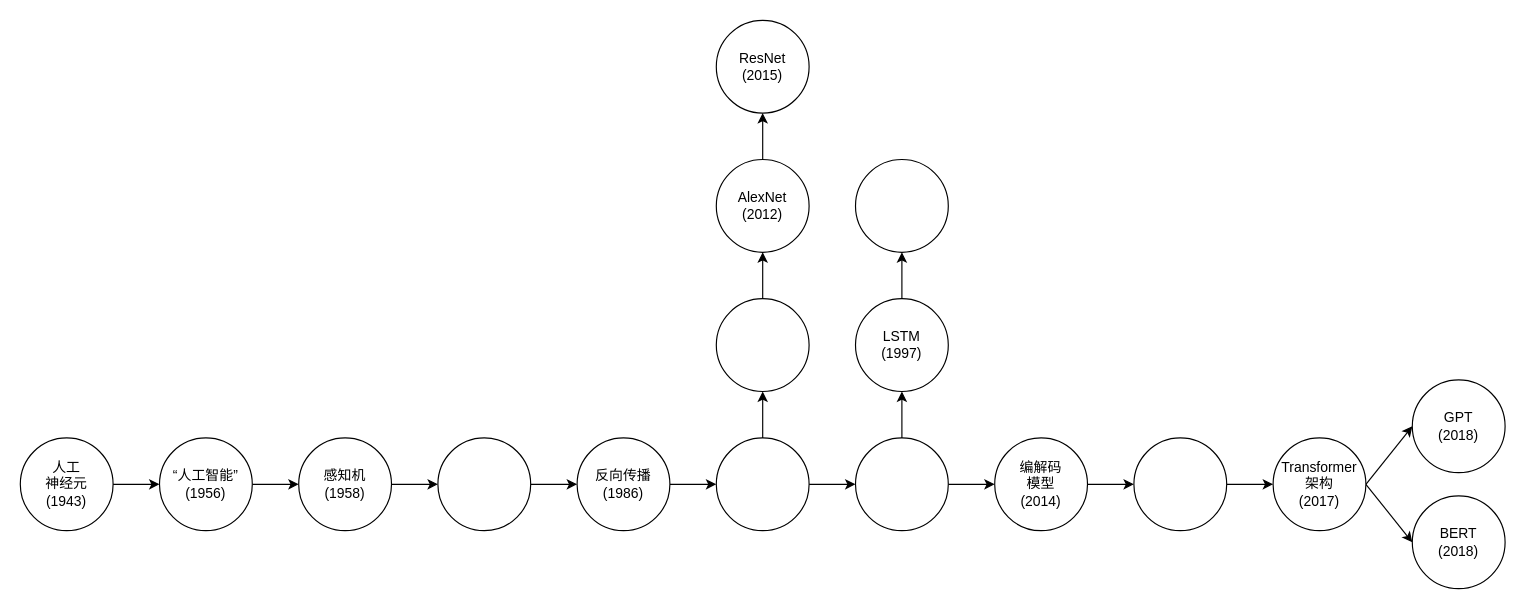
Some shapes in this 1525 by 609 pixel diagram are drawn without their labels. The shapes that lost their labels are listed below. From the top down, each one's box as (x1, y1, x2, y2) in pixels, then its label:
(854, 158, 948, 252): GRU (2014)
(715, 298, 809, 392): LeNet5 (1998)
(437, 437, 531, 531): 多层 感知机 (1969)
(715, 437, 809, 531): CNN (1989)
(854, 437, 948, 531): RNN (1980s)
(1133, 437, 1227, 531): 注意力 机制 (2014)
